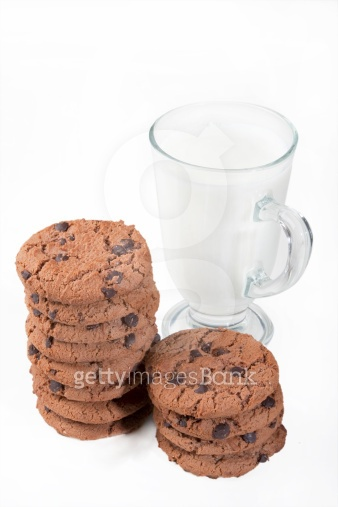glass of water: (148, 99, 304, 343)
